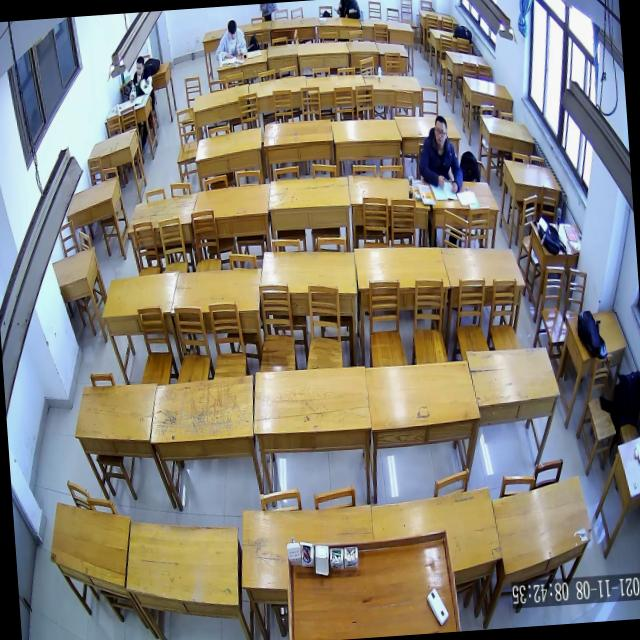down: (226, 19, 238, 40)
lookup: (432, 114, 448, 144), (135, 55, 145, 75)
sit: (416, 114, 464, 196), (213, 18, 247, 61), (125, 56, 154, 102)
